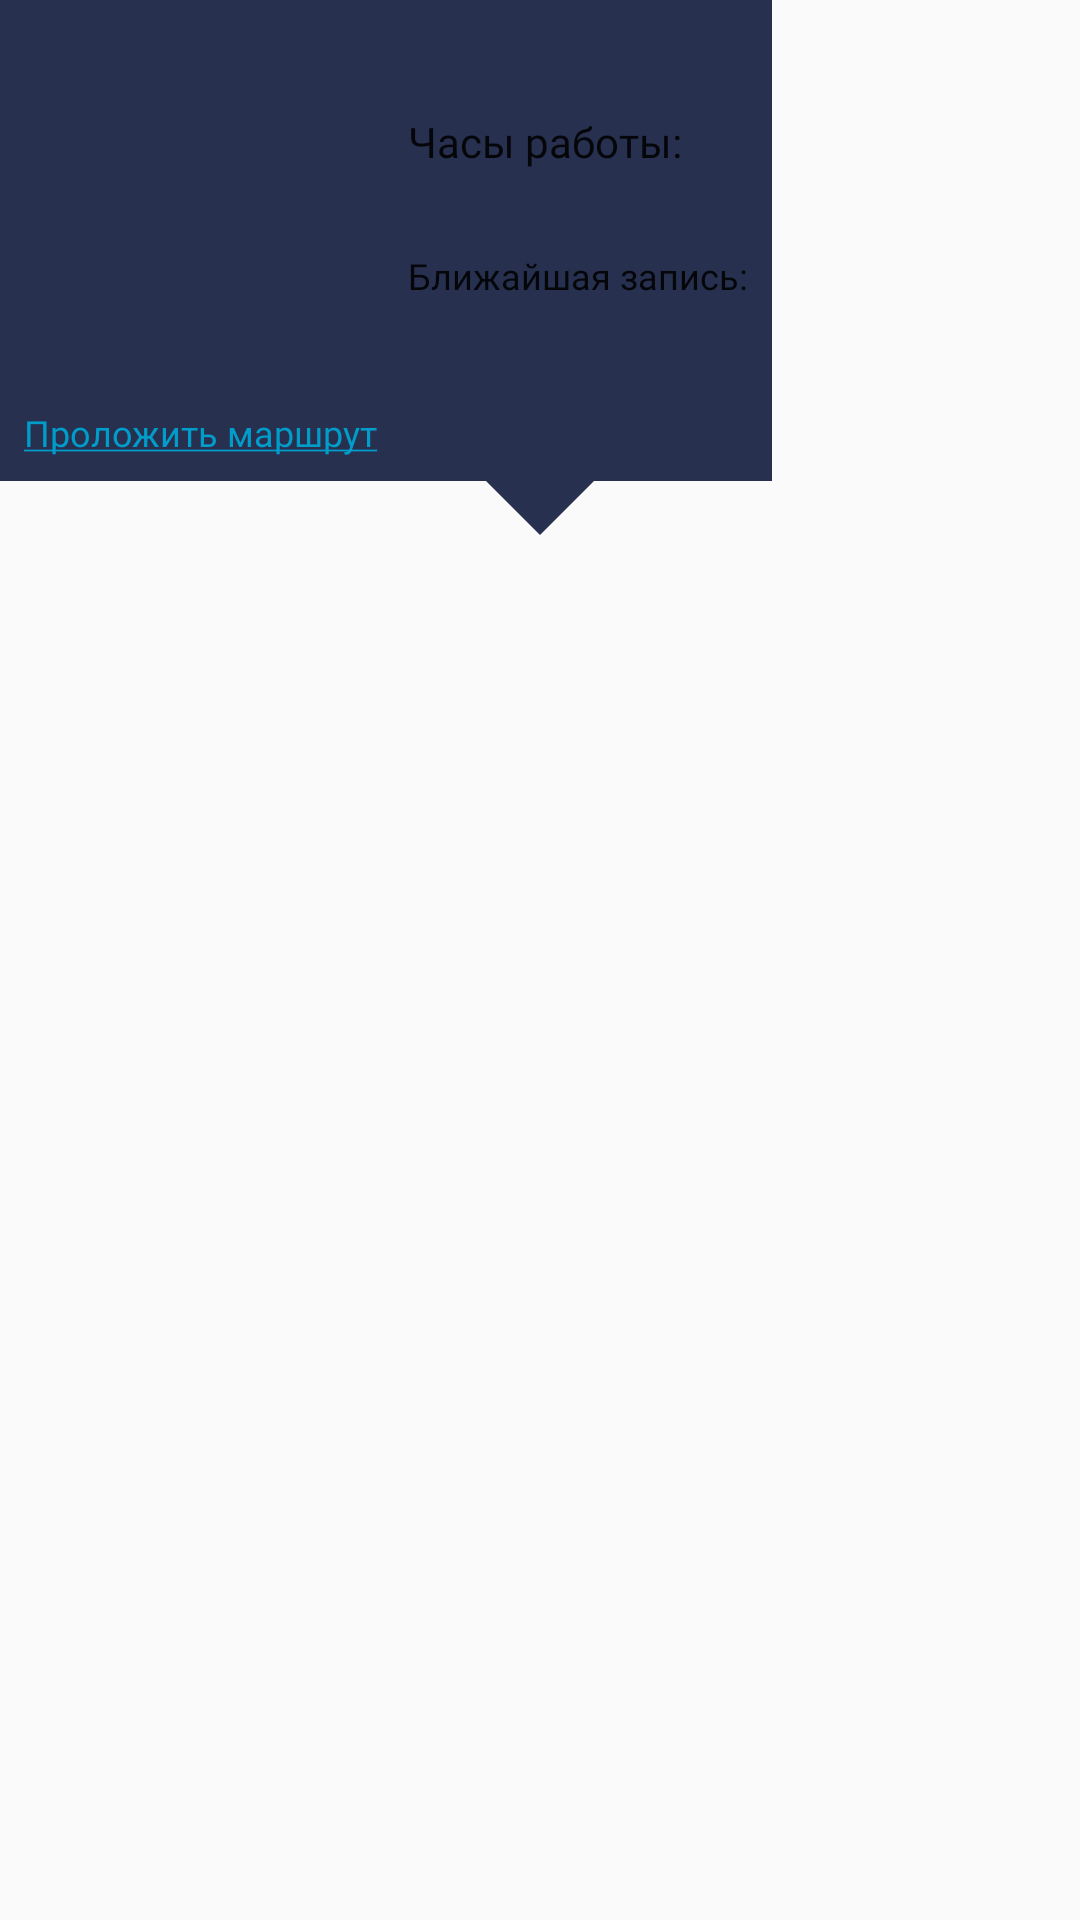

Named icons in this screenshot (1080 x 1920) and their bounding boxes, BBox(x1, y1, x2, y2):
info window arrow: BBox(486, 481, 594, 535)
